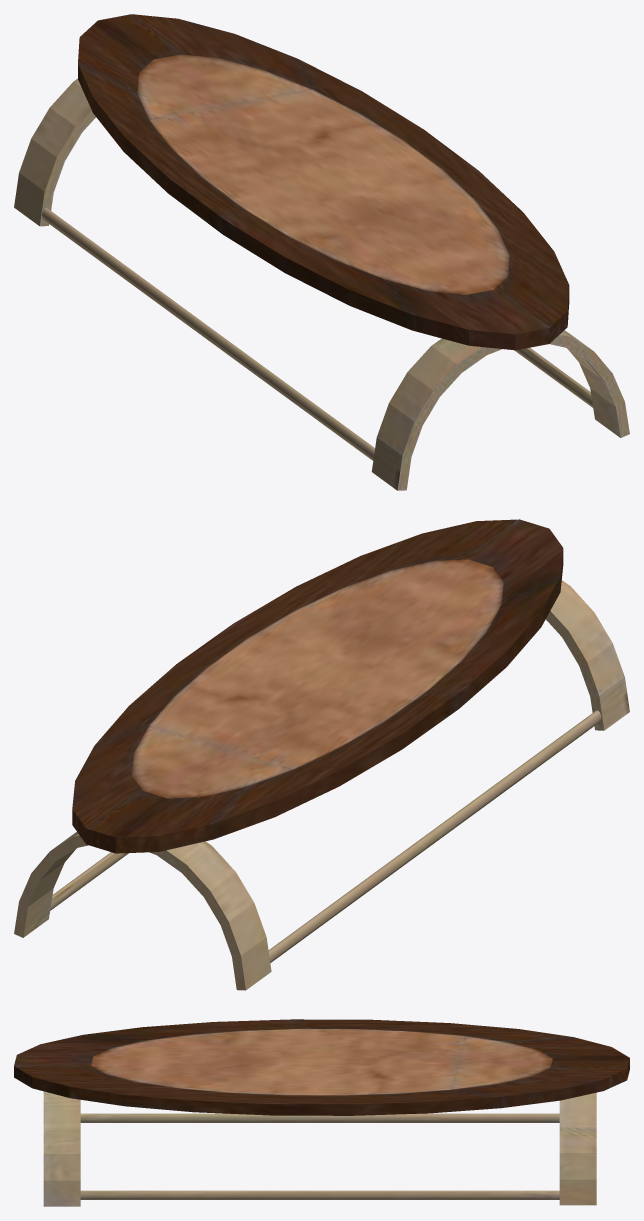
File: table_0.glb
3 renders of one model, top to bottom at view 1: azimuth 30°, elevation 25°; view 2: azimuth 150°, elevation 25°; view 3: azimuth 270°, elevation 25°, orthographic. The views are drawn at different scales.
Parts seen in each view (by area): view 1: table_0; view 2: table_0; view 3: table_0.
Boxes of the visible parts, x1,y1,x2,y2 form: table_0: (14,14,629,490); table_0: (14,519,629,990); table_0: (14,1019,629,1206).
Bounding box in the file's own units: 3.06 × 1.78 × 9.37.
Materials: 1 (1 with a texture image).
